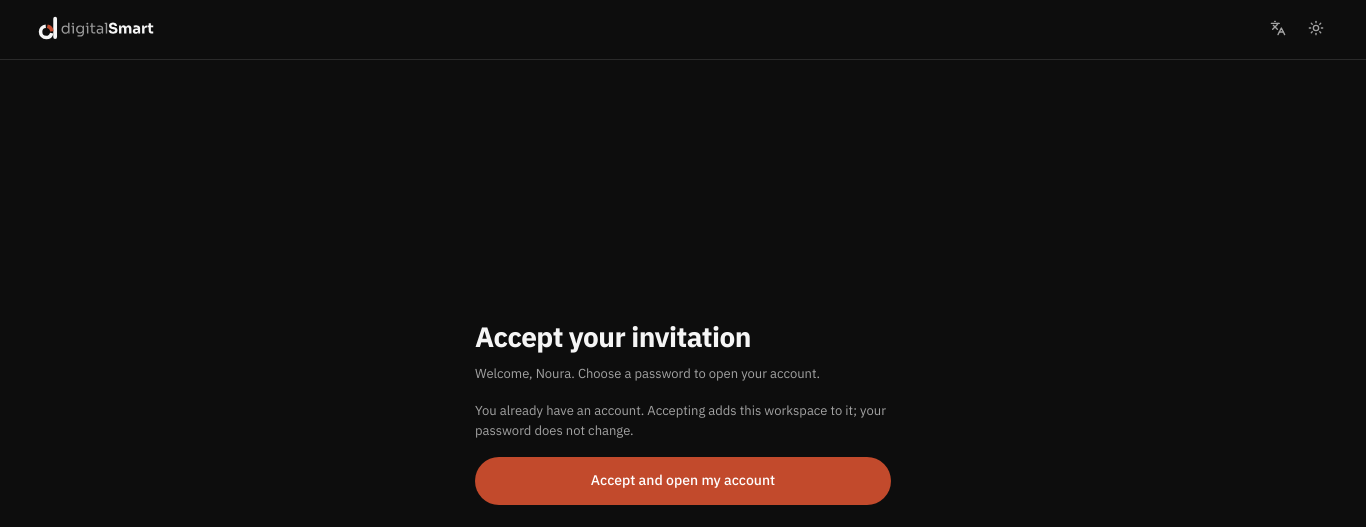
InvitationPage › asks for no password from somebody who already has an account
Click the button "Accept and open my account" at (683, 481), box [475, 457, 891, 505]
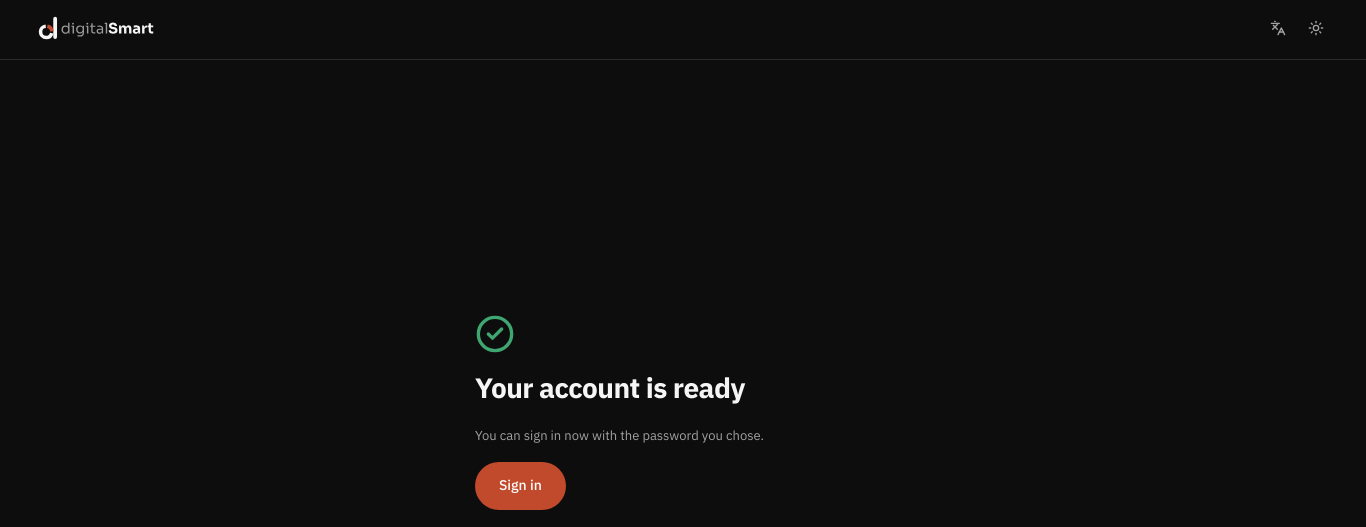
expect the text labelled "Choose a password" is gone: met
